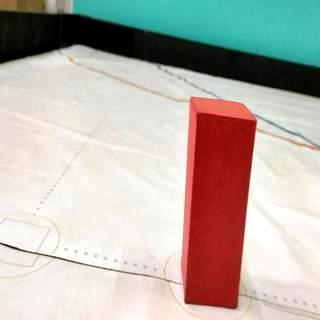redbox: (180, 94, 256, 309)
